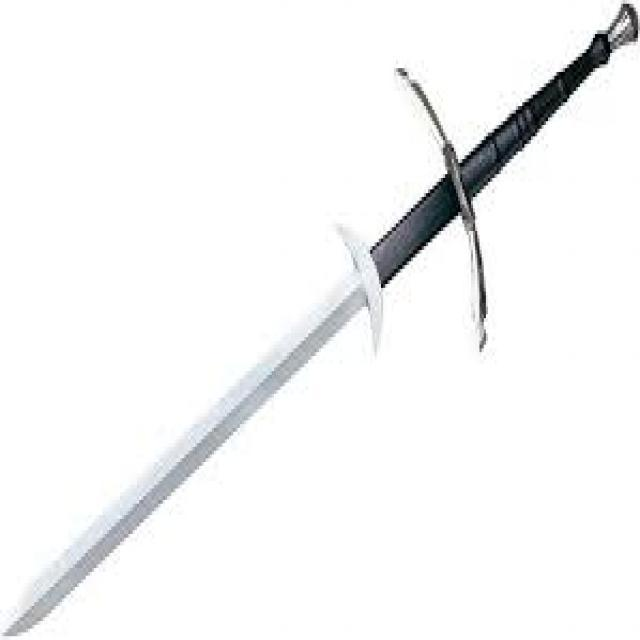long sword: (4, 12, 637, 640)
